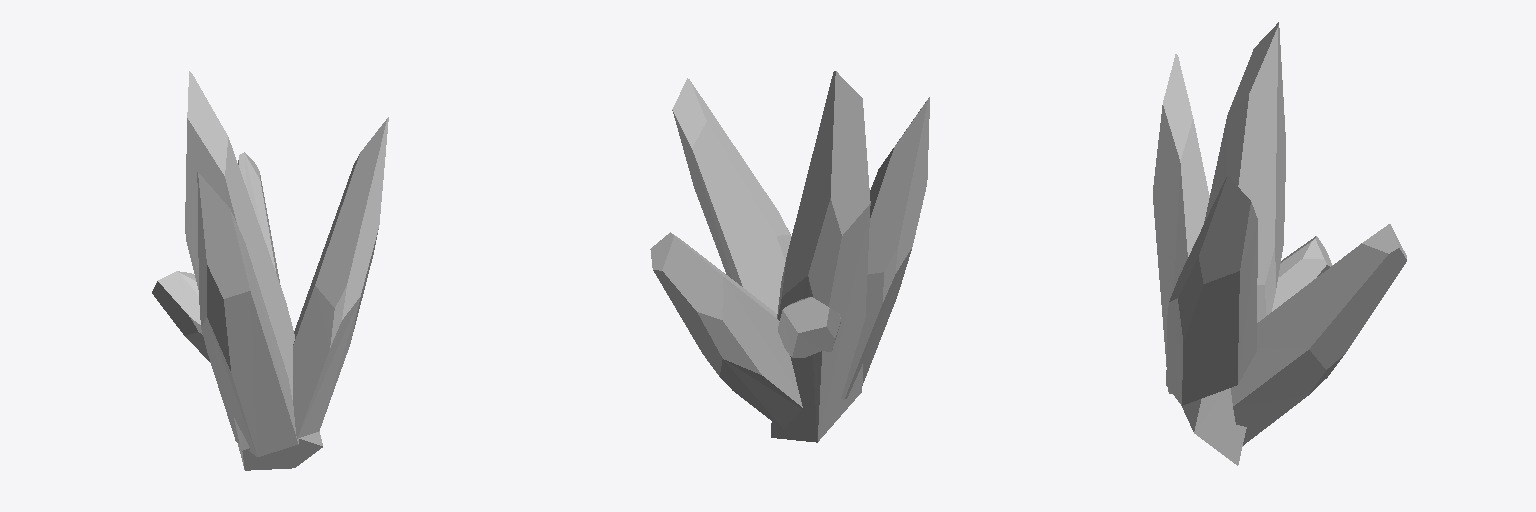
Rendered from tree04.obj.
The picture shows the model from 3 angles: view 1: azimuth 30°, elevation 25°; view 2: azimuth 150°, elevation 25°; view 3: azimuth 270°, elevation 25°; orthographic projection.
Parts seen in each view (by area): view 1: Cylinder004; view 2: Cylinder004; view 3: Cylinder004.
Part boxes in pixels (left/top/right/bottom): Cylinder004: left=152, top=71, right=388, bottom=470; Cylinder004: left=650, top=71, right=929, bottom=442; Cylinder004: left=1153, top=22, right=1406, bottom=465.
Size of the model in its own units: 39.15 by 68.43 by 39.23.